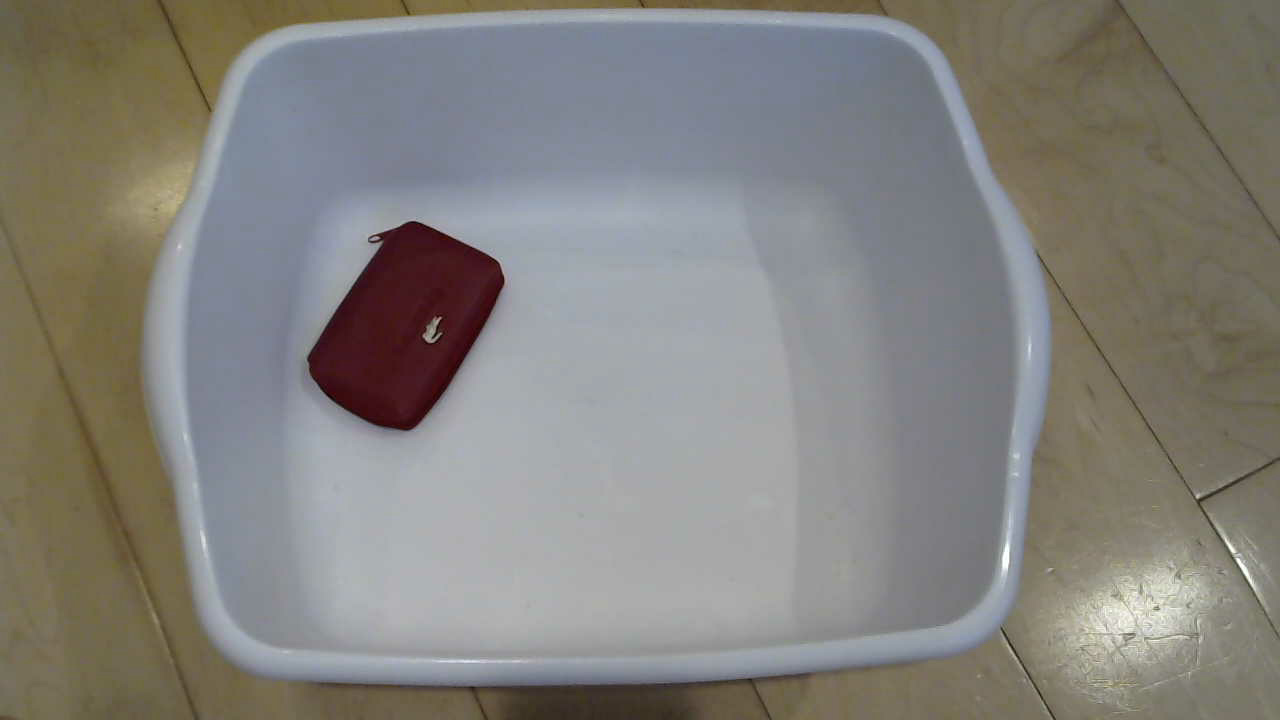wallet: (288, 207, 524, 447)
